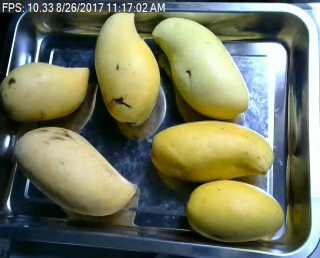Mango: (12, 126, 137, 216), (152, 16, 249, 119), (93, 11, 161, 125), (150, 120, 273, 181), (185, 180, 284, 240), (0, 61, 91, 122)
